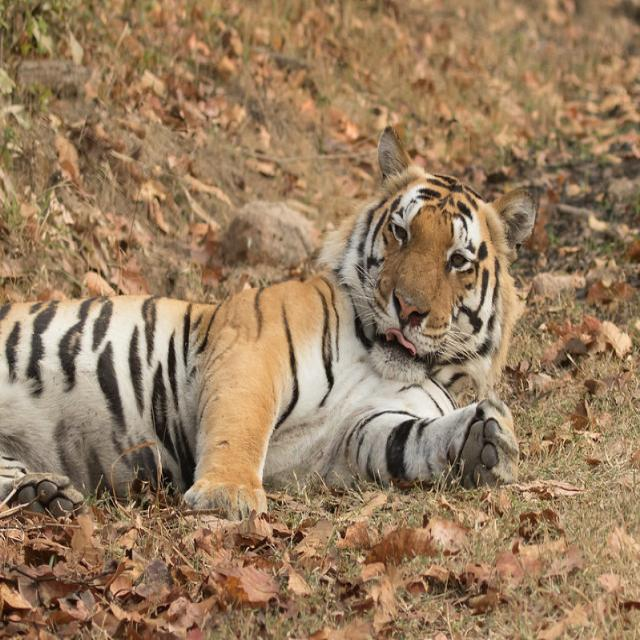Tiger: (0, 148, 533, 519)
